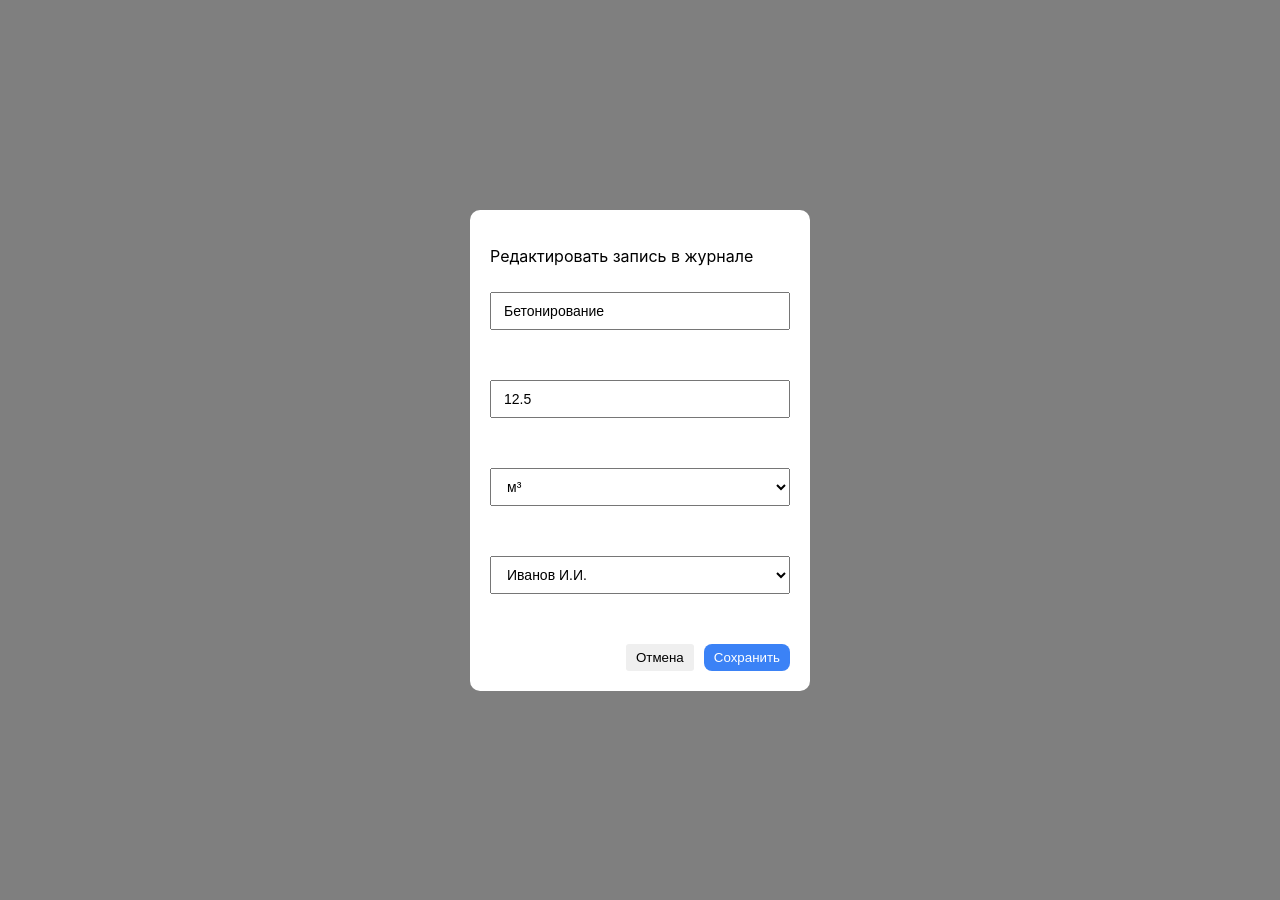
it: EditLogModal › disables buttons while submitting
The image size is (1280, 900).
Click the button "Сохранить". click: (747, 657)
box: [704,644,790,670]
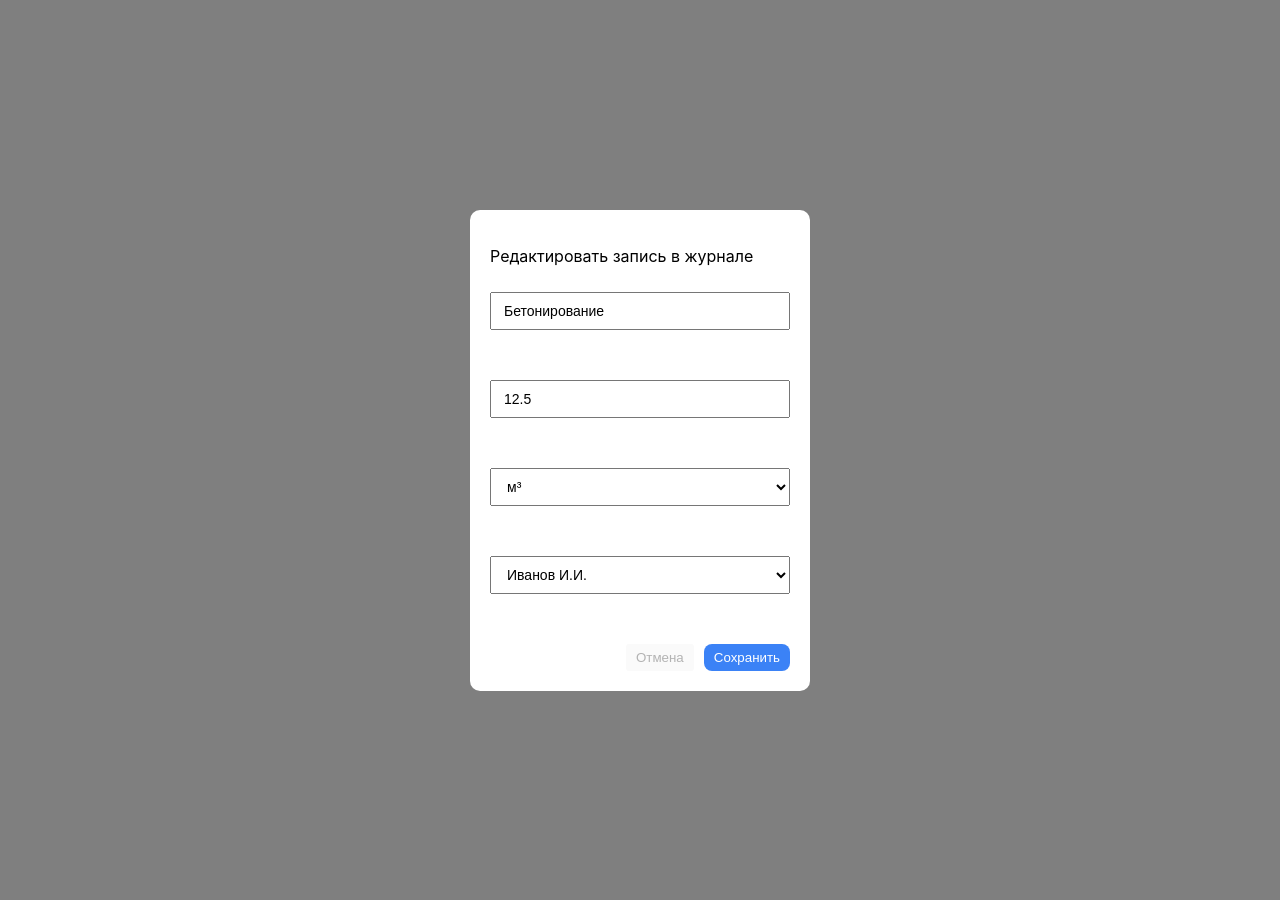
Expected: the button "Отмена" is disabled, [626,644,694,670]
